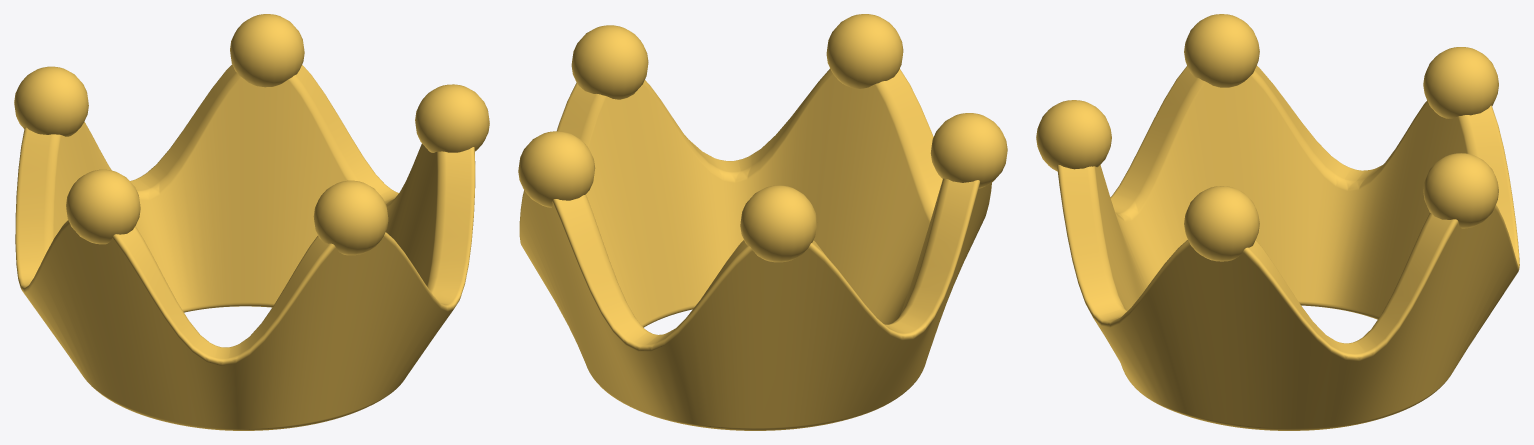
File: score-crown.glb
3 renders of one model, left to right at view 1: azimuth 30°, elevation 25°; view 2: azimuth 150°, elevation 25°; view 3: azimuth 270°, elevation 25°, orthographic. The views are drawn at different scales.
Parts seen in each view (by area): view 1: Crown, RoundedTip, RoundedTip.004, RoundedTip.002, RoundedTip.003, RoundedTip.001; view 2: Crown, RoundedTip.003, RoundedTip, RoundedTip.001, RoundedTip.002, RoundedTip.004; view 3: Crown, RoundedTip.001, RoundedTip.004, RoundedTip.002, RoundedTip.003, RoundedTip.
Boxes of the visible parts, <box> form: Crown: <box>15,65,475,430</box>; RoundedTip: <box>313,180,388,255</box>; RoundedTip.004: <box>66,169,140,244</box>; RoundedTip.002: <box>230,14,304,87</box>; RoundedTip.003: <box>14,66,88,136</box>; RoundedTip.001: <box>415,84,489,152</box>; Crown: <box>519,68,991,430</box>; RoundedTip.003: <box>740,185,817,262</box>; RoundedTip: <box>826,14,903,88</box>; RoundedTip.001: <box>571,25,648,99</box>; RoundedTip.002: <box>518,131,595,207</box>; RoundedTip.004: <box>930,113,1007,188</box>; Crown: <box>1057,66,1519,430</box>; RoundedTip.001: <box>1184,186,1259,261</box>; RoundedTip.004: <box>1184,14,1259,87</box>; RoundedTip.002: <box>1423,153,1498,228</box>; RoundedTip.003: <box>1423,47,1498,118</box>; RoundedTip: <box>1036,100,1111,171</box>.
Bounding box in the file's own units: 1.4 × 0.83 × 1.4.
